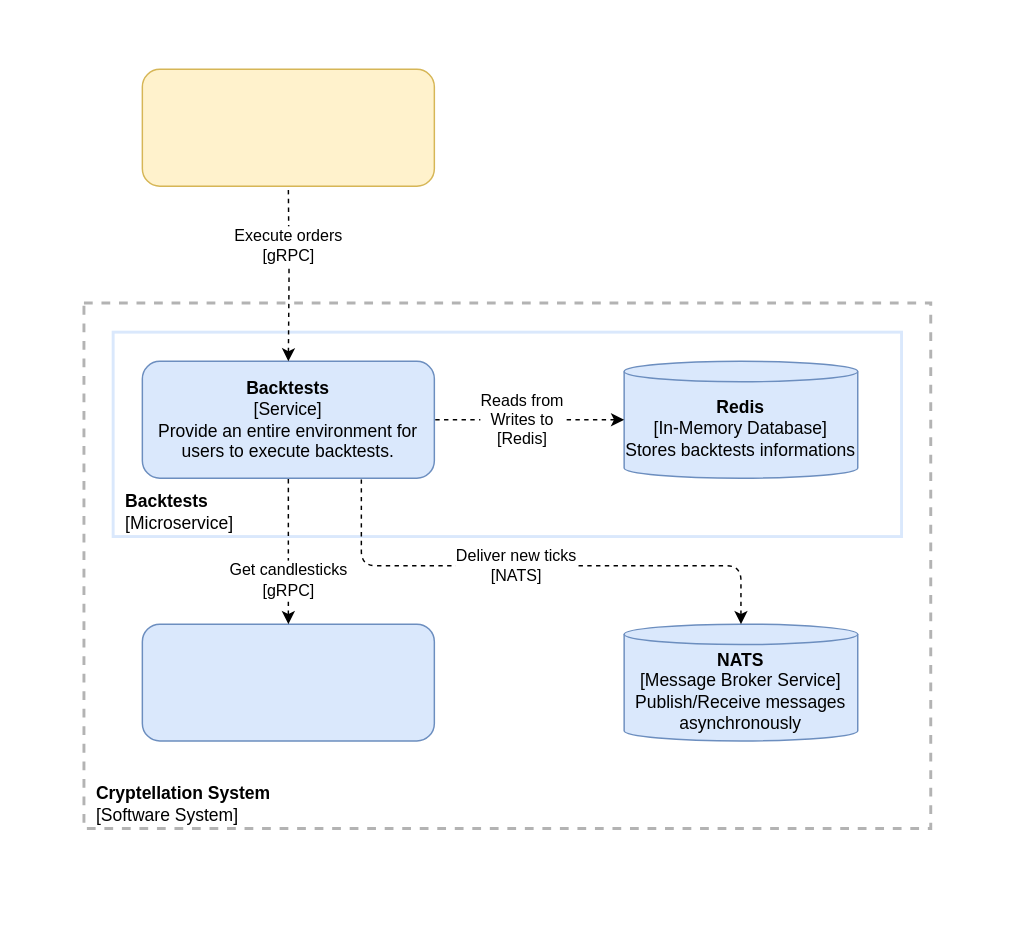
The diagram is 1013 pixels wide and 926 high, and some of its shapes have lost their labels. The centre of each missing label's shape, as x and y in pixels:
Candlesticks [Service] Provides candlesticks to services and users.: (x=287, y=682)
User [Application] Application that a user will run to execute its strategies.: (x=287, y=127)
